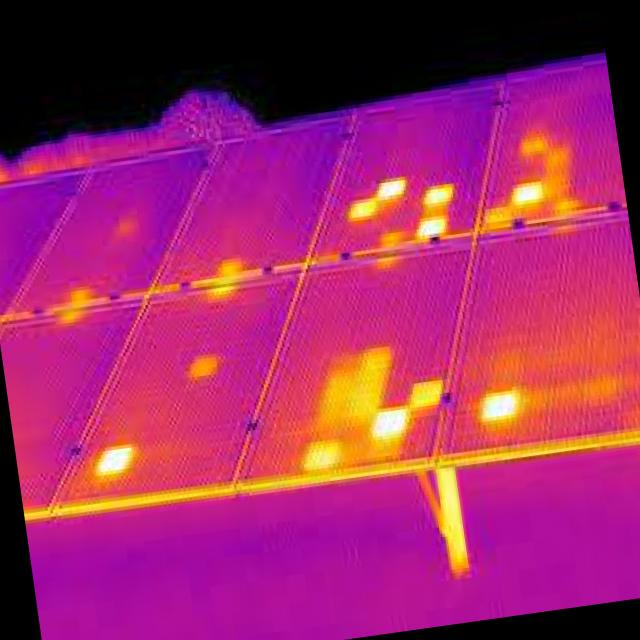Hotspot: (306, 342, 402, 436), (534, 142, 582, 198), (471, 384, 521, 426), (88, 440, 136, 480), (296, 436, 341, 475), (369, 402, 412, 441), (406, 373, 448, 412), (344, 194, 382, 229), (414, 208, 454, 240), (481, 201, 525, 230), (418, 180, 457, 212), (373, 173, 410, 204), (510, 178, 544, 209), (518, 129, 550, 160), (550, 192, 586, 214), (206, 280, 236, 306), (186, 354, 218, 378), (53, 304, 85, 328), (372, 252, 406, 273), (380, 228, 410, 248), (68, 286, 94, 306), (220, 258, 240, 277)
